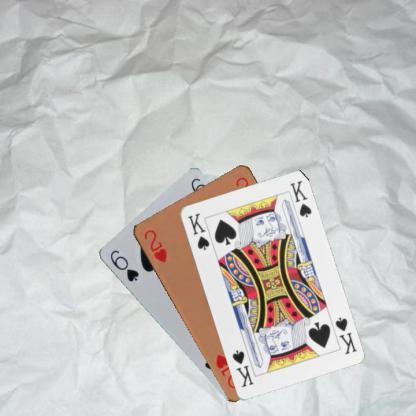2h: (141, 227, 168, 264)
6s: (107, 247, 140, 283)
Ks: (332, 314, 358, 356), (185, 210, 210, 251)
